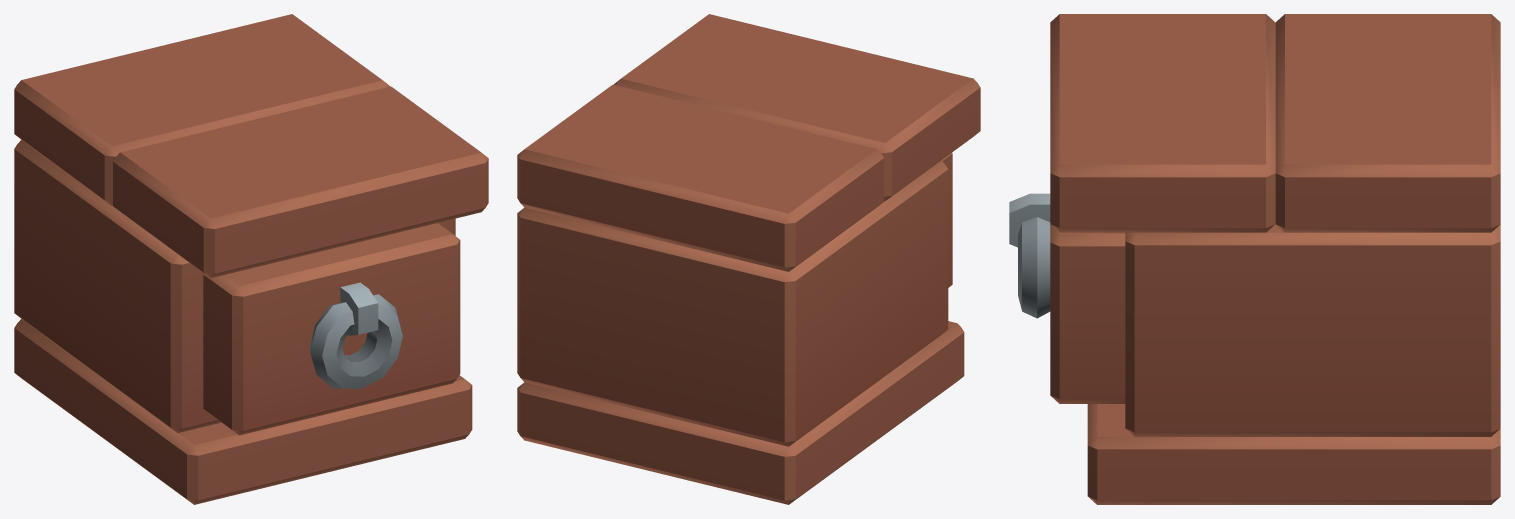
Rendered from bar_straight_C_short.glb.
3 renders of one model, left to right at view 1: azimuth 30°, elevation 25°; view 2: azimuth 150°, elevation 25°; view 3: azimuth 270°, elevation 25°, orthographic. The views are drawn at different scales.
Visible parts, largest first — view 1: bar_straight_C_short; view 2: bar_straight_C_short; view 3: bar_straight_C_short.
Part boxes in pixels (left/top/right/bottom): bar_straight_C_short: left=14, top=14, right=488, bottom=504; bar_straight_C_short: left=517, top=14, right=980, bottom=504; bar_straight_C_short: left=1009, top=14, right=1500, bottom=504.
Bounding box in the file's own units: 1 × 1 × 1.31.
Materials: 1 (1 with a texture image).
